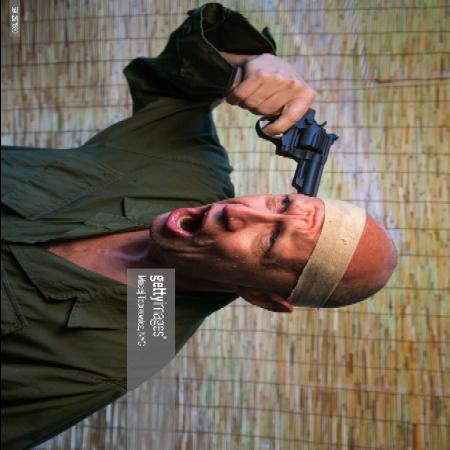Pistol: (256, 94, 337, 194)
